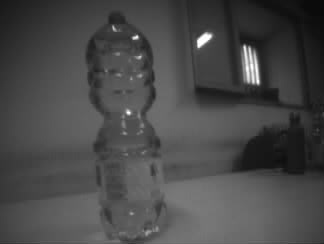Bottle: (84, 12, 170, 243)
